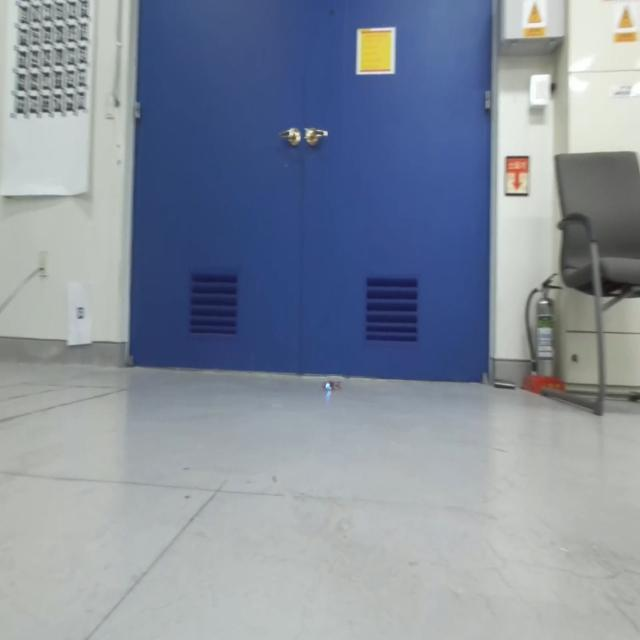crazyflie: (319, 374, 342, 396)
